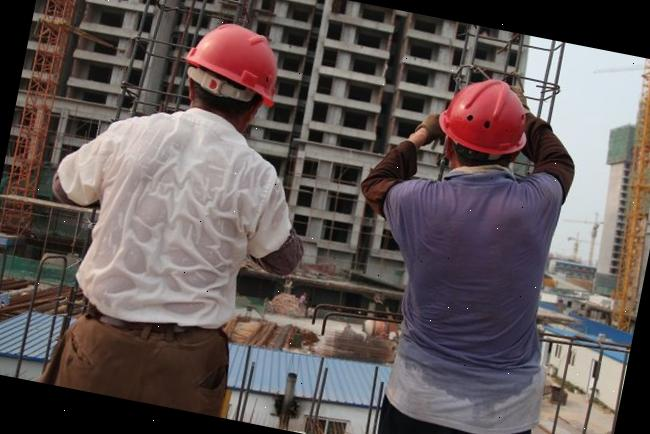helmet: (178, 17, 292, 106), (435, 70, 540, 162)
no_wear: (374, 177, 570, 410), (75, 114, 268, 344)
